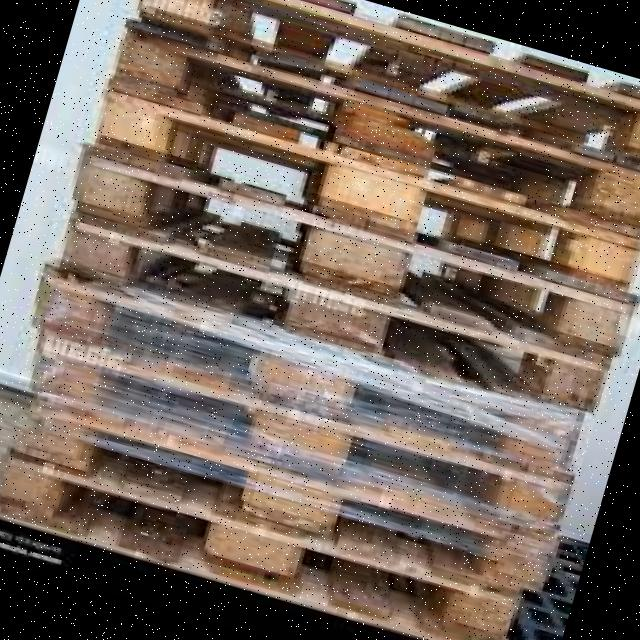Wooden-Pallets: (42, 144, 640, 378), (41, 256, 620, 488), (98, 4, 640, 245), (18, 322, 589, 542), (94, 76, 640, 295), (54, 218, 626, 426), (0, 443, 534, 640), (132, 0, 640, 170)
